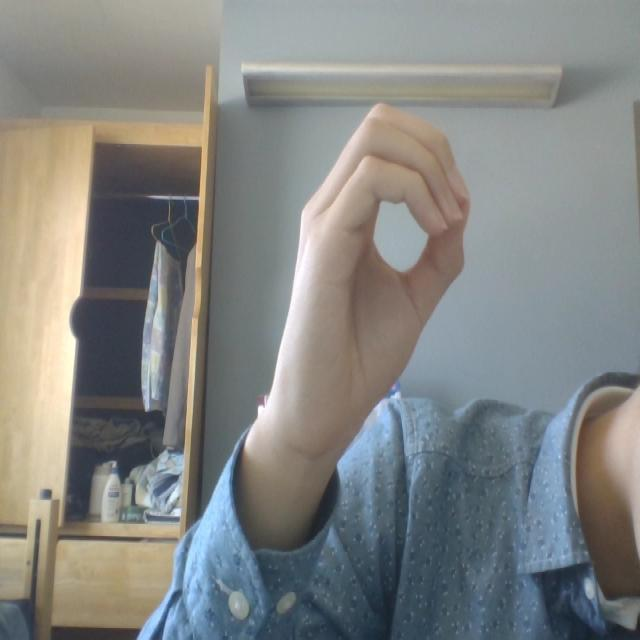O: (264, 60, 504, 438)
